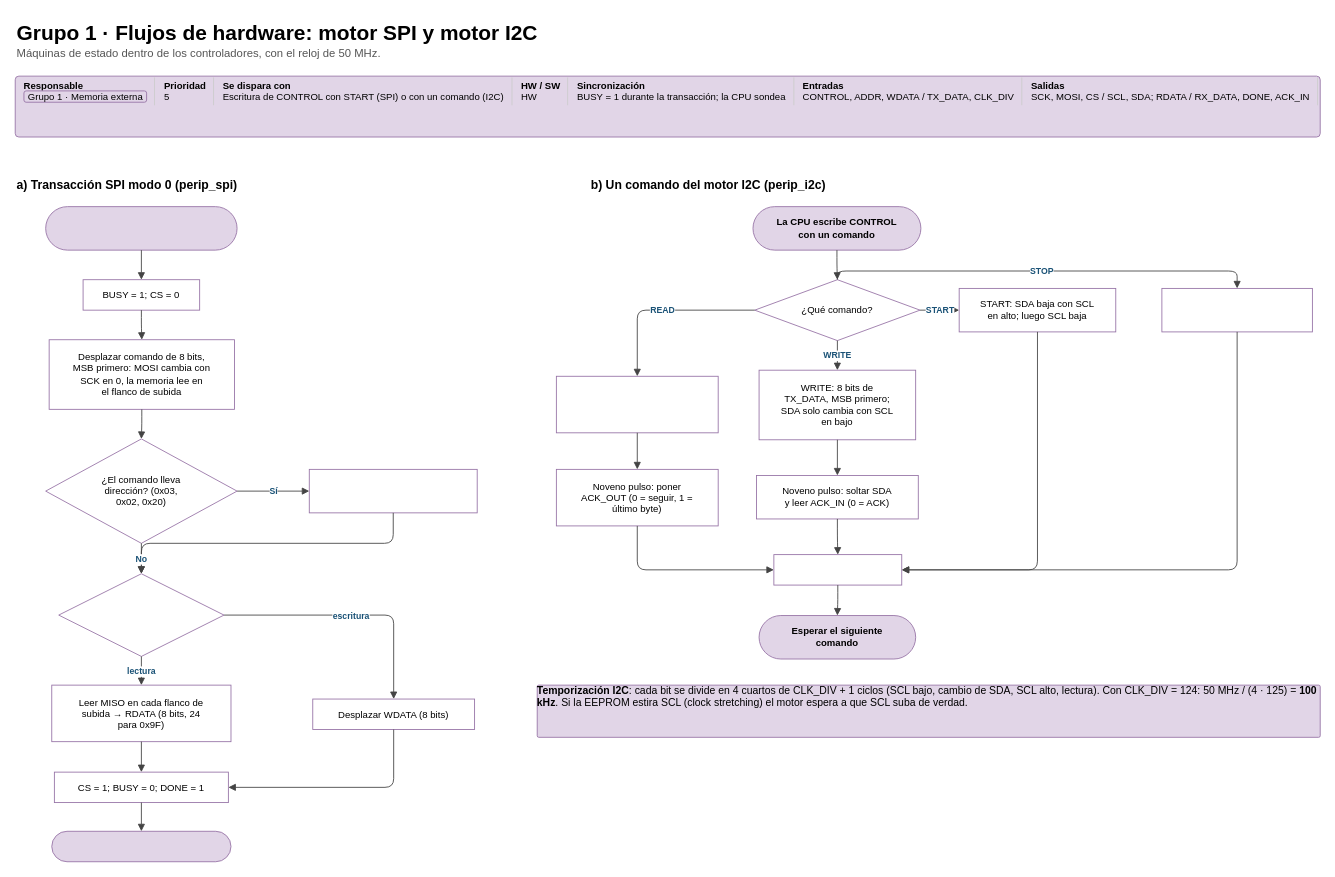
Some shapes in this 1335 by 877 pixel diagram are drawn without their labels. The centre of each missing label's shape, as x and y in pixels:
"BUSY = 0; DONE = 1" goes at point 837,569.
"Desplazar dirección de 24 bits" goes at point 392,490.
"La CPU escribe CONTROL con START" goes at point 141,228.
"READ: soltar SDA y leer 8 bits con SCL en alto → RX_DATA" goes at point 636,404.
"Reposo (SCK = 0, CS = 1)" goes at point 141,846.
"STOP: SDA sube con SCL en alto" goes at point 1236,310.
"¿Lectura o escritura?" goes at point 141,614.
